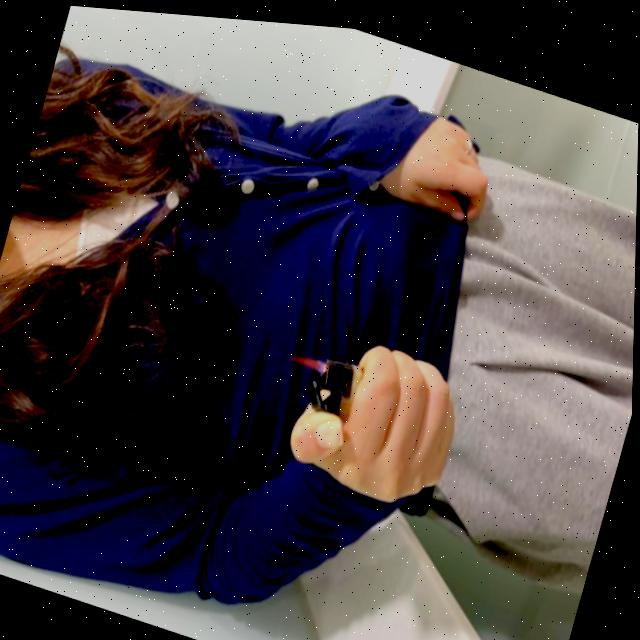Fire: (296, 344, 332, 369)
